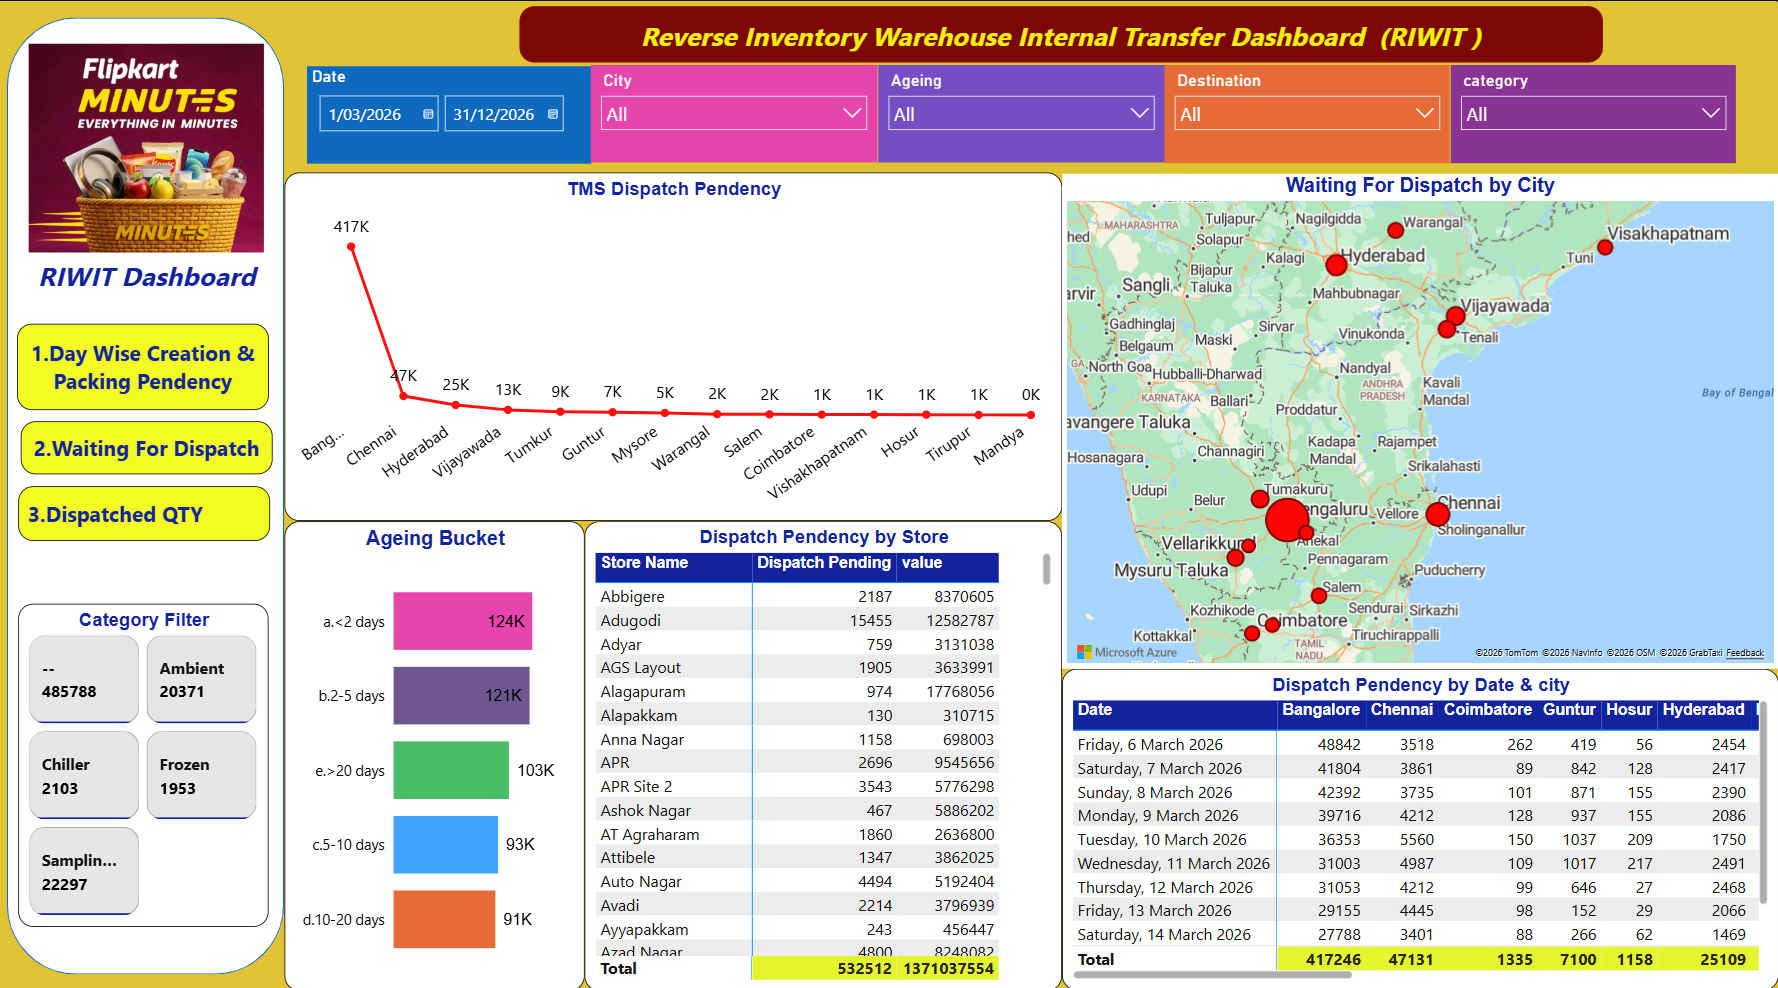

The page's visual inventory and layout, read from the dashboard file:
{"tool":"powerbi","page":{"name":"Waiting For Dispatch","canvas":[1800,1000],"ordinal":1},"visuals":[{"type":"shape","box":[9.6,17.4,279.8,966.8],"z":0},{"type":"slicer","title":"Date","fields":{"Values":["Date.Date"]},"box":[312.6,67.5,287.5,98.4],"z":1000},{"type":"pivotTable","title":"Dispatch Pendency by Date & city","fields":{"Values":["Sum(TMS RAW.TMS Dispatch pending)"],"Columns":["Cities Table.City"],"Rows":["TMS RAW.Date"]},"box":[1075.7,675.3,723.9,325.1],"z":2000},{"type":"slicer","title":"Date","fields":{"Values":["Cities Table.City"]},"box":[600.1,65.6,289.5,98.4],"z":3000},{"type":"image","box":[546.2,10.1,58.6,45.2],"z":4000},{"type":"lineChart","title":"Dispatch Pendency","fields":{"Category":["Cities Table.City"],"Y":["Sum(TMS RAW.TMS Dispatch pending)"]},"box":[289.9,174.3,785.9,351.9],"z":5000},{"type":"slicer","title":"Date","fields":{"Values":["TMS RAW.Ageing"]},"box":[889.6,65.6,289.5,98.4],"z":6000},{"type":"slicer","title":"Date","fields":{"Values":["Picking Raw Data.Destination"]},"box":[1179.6,65.3,288.2,98.9],"z":7000},{"type":"advancedSlicerVisual","title":"Category Filter","fields":{"Values":["TMS RAW.category"],"Label":["Sum(TMS RAW.TMS Dispatch pending)"]},"box":[21.8,609.9,253,326.7],"z":8000},{"type":"pivotTable","title":"Dispatch Pendency by Store","fields":{"Rows":["TMS RAW.Store Name"],"Values":["Sum(TMS RAW.TMS Dispatch pending)","Sum(TMS RAW.value)"]},"box":[593.2,526.1,482.6,474.2],"z":9000},{"type":"actionButton","box":[21.8,491,254.7,55.3],"z":10000},{"type":"actionButton","box":[23.5,425.6,254.7,53.6],"z":11000},{"type":"actionButton","box":[20.1,326.7,254.7,87.1],"z":12000},{"type":"slicer","title":"Date","fields":{"Values":["TMS RAW.category"]},"box":[1467.8,65.3,288.2,98.9],"z":13000},{"type":"textbox","box":[527.8,6.7,1094.2,57],"z":14000},{"type":"image","box":[0,43.6,301.6,237.9],"z":15000},{"type":"textbox","box":[26.8,254.7,249.7,57],"z":16000},{"type":"barChart","title":"Ageing Bucket","fields":{"Y":["Sum(TMS RAW.TMS Dispatch pending)"],"Category":["TMS RAW.Ageing_Bucket"]},"box":[289.9,526.1,303.3,474.2],"z":17000},{"type":"azureMap","title":"Waiting For Dispatch by City","fields":{"Category":["TMS RAW.Pincode"],"Size":["Sum(TMS RAW.TMS Dispatch pending)"]},"box":[1075.7,175.9,723.9,499.3],"z":18000}]}

Visuals, with their boxes in screenshot pixels (x1, y1, x2, y2), scaled from the page's 1800x1000 canvas onto the 1778x988 screenshot:
shape: x1=9 y1=17 x2=286 y2=972
"Date" slicer: x1=309 y1=67 x2=593 y2=164
"Dispatch Pendency by Date & city" pivotTable: x1=1063 y1=667 x2=1777 y2=987
"Date" slicer: x1=593 y1=65 x2=879 y2=162
image: x1=540 y1=10 x2=597 y2=55
"Dispatch Pendency" lineChart: x1=286 y1=172 x2=1063 y2=520
"Date" slicer: x1=879 y1=65 x2=1165 y2=162
"Date" slicer: x1=1165 y1=65 x2=1450 y2=162
"Category Filter" advancedSlicerVisual: x1=22 y1=603 x2=271 y2=925
"Dispatch Pendency by Store" pivotTable: x1=586 y1=520 x2=1063 y2=987
actionButton: x1=22 y1=485 x2=273 y2=540
actionButton: x1=23 y1=420 x2=275 y2=473
actionButton: x1=20 y1=323 x2=271 y2=409
"Date" slicer: x1=1450 y1=65 x2=1735 y2=162
textbox: x1=521 y1=7 x2=1602 y2=63
image: x1=0 y1=43 x2=298 y2=278
textbox: x1=26 y1=252 x2=273 y2=308
"Ageing Bucket" barChart: x1=286 y1=520 x2=586 y2=987
"Waiting For Dispatch by City" azureMap: x1=1063 y1=174 x2=1777 y2=667
